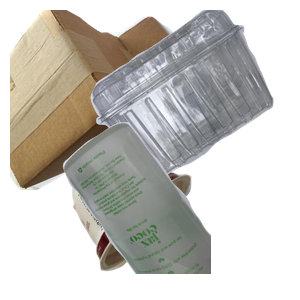cardboard: (10, 10, 206, 190)
glass: (60, 120, 300, 300)
plastic: (88, 10, 300, 180)
trash: (70, 149, 254, 300)
